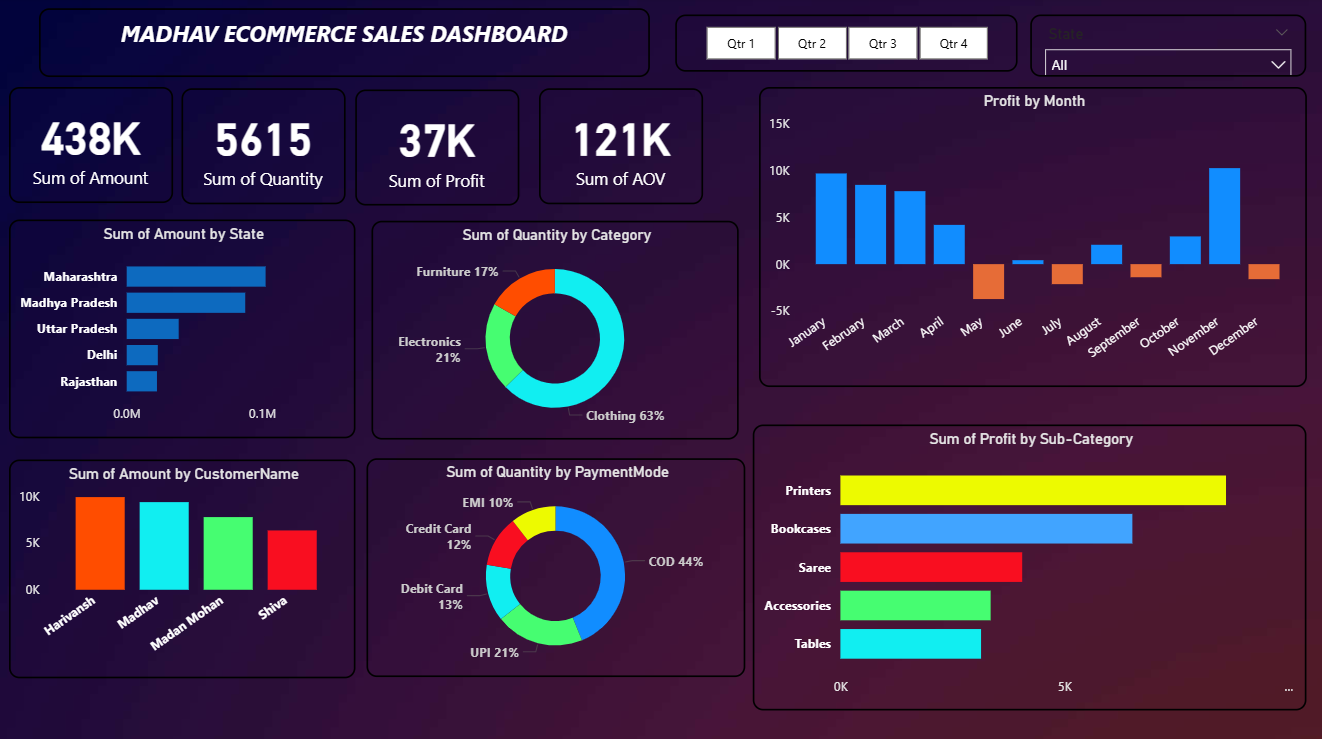

Layout of this report page (visuals, bound fields, positions):
{"tool":"powerbi","page":{"name":"Page 1","canvas":[1280,720],"ordinal":0},"visuals":[{"type":"textbox","box":[38.6,10.9,589.9,66.4],"z":0},{"type":"columnChart","title":"Profit by Month","fields":{"Y":["Details.Profit"],"Category":["Orders.Order Date.Variation.Date Hierarchy.Month"]},"box":[733.5,86.9,528.4,289.5],"z":1},{"type":"barChart","fields":{"Category":["Details.Sub-Category"],"Y":["Details.Profit"]},"box":[727.5,412.6,534.5,276.3],"z":2},{"type":"donutChart","fields":{"Category":["Details.Category"],"Y":["Details.Quantity"]},"box":[359.5,216,354.7,211.1],"z":3},{"type":"donutChart","fields":{"Category":["Details.PaymentMode"],"Y":["Details.Quantity"]},"box":[354.7,445.2,365.6,211.1],"z":4},{"type":"card","fields":{"Values":["Details.Amount"]},"box":[9.7,86.9,158,112.2],"z":5},{"type":"card","fields":{"Values":["Details.Profit"]},"box":[343.8,89.3,158,112.2],"z":6},{"type":"card","fields":{"Values":["Details.Quantity"]},"box":[176.1,88.1,158,112.2],"z":7},{"type":"card","fields":{"Values":["Details.AOV"]},"box":[521.2,88.1,158,112.2],"z":8},{"type":"barChart","fields":{"Category":["Orders.State"],"Y":["Details.Amount"]},"box":[9.7,214.7,334.2,211.1],"z":9},{"type":"columnChart","fields":{"Category":["Orders.CustomerName"],"Y":["Details.Amount"]},"box":[9.7,446.4,334.2,211.1],"z":10},{"type":"slicer","fields":{"Values":["Orders.Order Date.Variation.Date Hierarchy.Quarter"]},"box":[652.7,16.9,330.6,55.5],"z":11},{"type":"slicer","fields":{"Values":["Orders.State"]},"box":[995.3,16.9,266.6,60.3],"z":12}]}

Visuals, with their boxes in screenshot pixels (x1, y1, x2, y2), scaled from the page's 1280x720 canvas onto the 1322x739 screenshot:
textbox: box=[40, 11, 649, 79]
"Profit by Month" columnChart: box=[758, 89, 1303, 386]
barChart - Details.Sub-Category x Details.Profit: box=[751, 423, 1303, 707]
donutChart - Details.Category x Details.Quantity: box=[371, 222, 738, 438]
donutChart - Details.PaymentMode x Details.Quantity: box=[366, 457, 744, 674]
card - Details.Amount: box=[10, 89, 173, 204]
card - Details.Profit: box=[355, 92, 518, 207]
card - Details.Quantity: box=[182, 90, 345, 206]
card - Details.AOV: box=[538, 90, 701, 206]
barChart - Orders.State x Details.Amount: box=[10, 220, 355, 437]
columnChart - Orders.CustomerName x Details.Amount: box=[10, 458, 355, 675]
slicer - Orders.Order Date.Variation.Date Hierarchy.Quarter: box=[674, 17, 1016, 74]
slicer - Orders.State: box=[1028, 17, 1303, 79]
